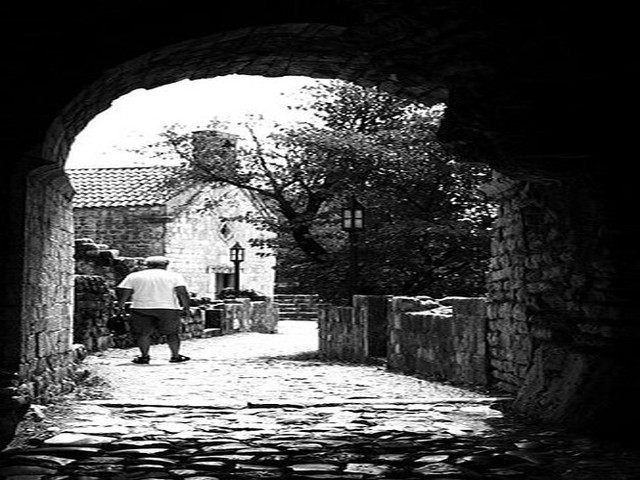Person: (114, 251, 203, 370)
